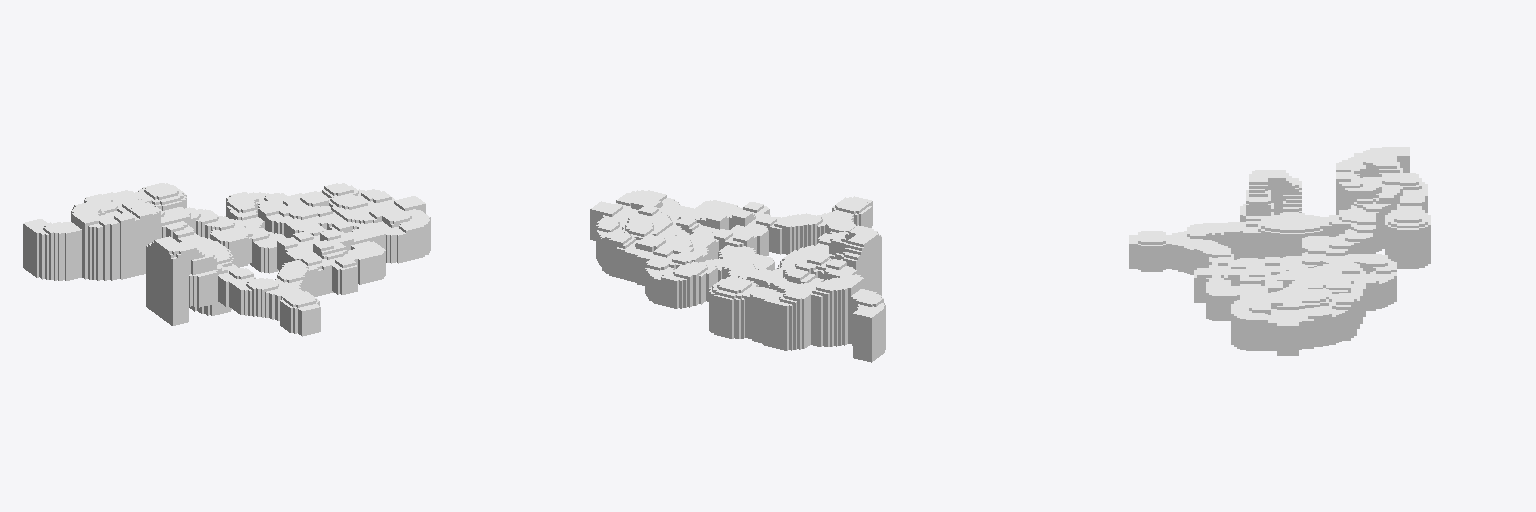
File: Level02-0.obj
The picture shows the model from 3 angles: view 1: azimuth 30°, elevation 25°; view 2: azimuth 150°, elevation 25°; view 3: azimuth 270°, elevation 25°; orthographic projection.
Visible parts, largest first — view 1: object 1; view 2: object 1; view 3: object 1.
Part boxes in pixels (bbox=[...]): object 1: bbox=[23, 183, 430, 336]; object 1: bbox=[590, 190, 885, 362]; object 1: bbox=[1129, 147, 1430, 355].
Bounding box in the file's own units: 12.6 × 2.9 × 9.8.